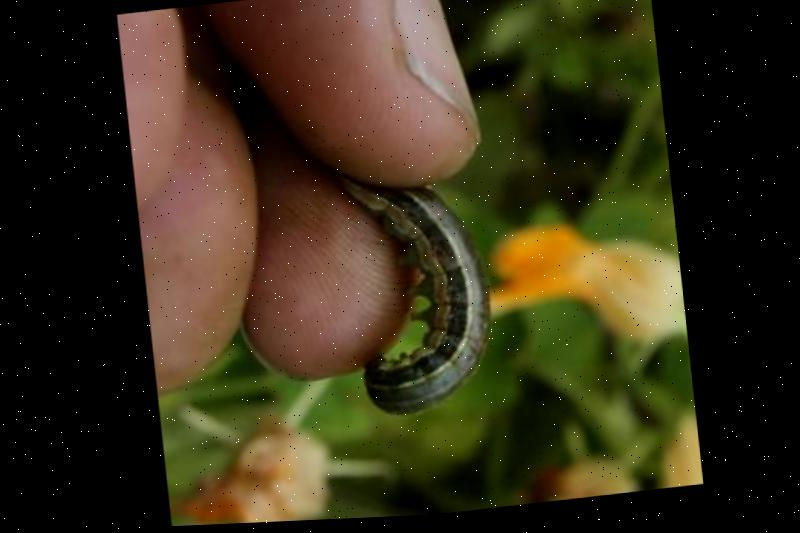fall-armyworm: (333, 152, 488, 419)
